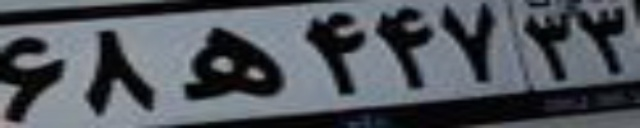3: (575, 4, 626, 75), (522, 11, 571, 80)
4: (303, 9, 365, 97), (373, 5, 433, 89)
6: (2, 34, 64, 122)
7: (439, 1, 497, 84)
8: (80, 29, 164, 116)
he: (176, 27, 284, 99)
